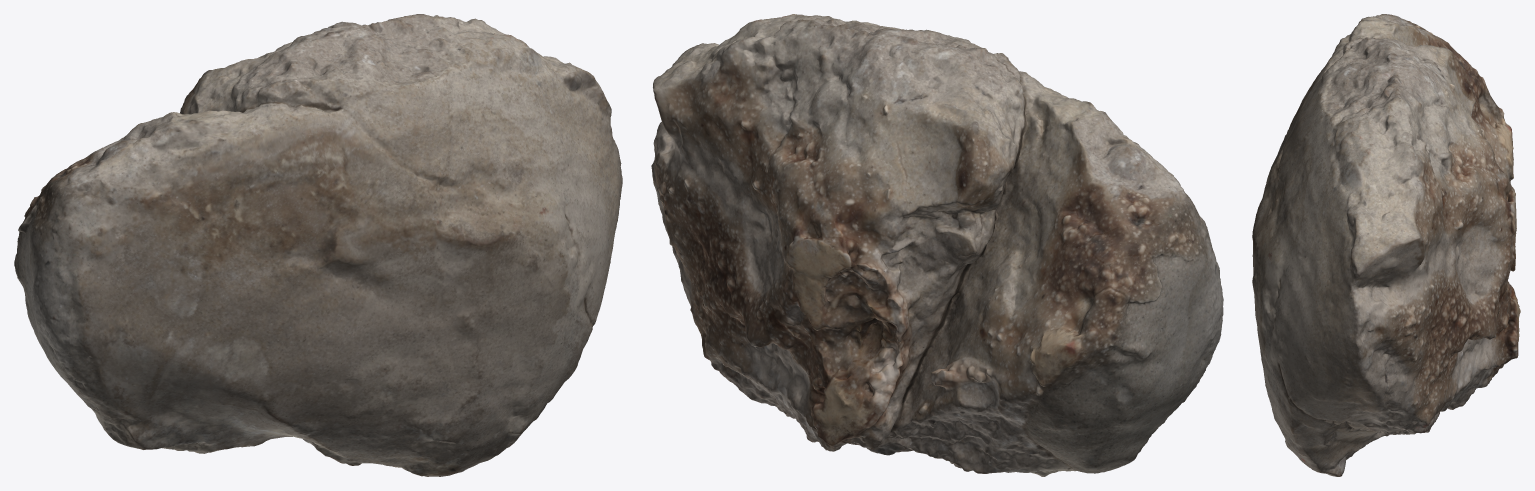
The model's file is EWS0016455.glb.
3 views of the same model, side by side, from view 1: azimuth 30°, elevation 25°; view 2: azimuth 150°, elevation 25°; view 3: azimuth 270°, elevation 25° (orthographic). The views are drawn at different scales.
Parts seen in each view (by area): view 1: input; view 2: input; view 3: input.
Part boxes in pixels (x1=…): input: x1=14, y1=14, x2=622, y2=476; input: x1=651, y1=14, x2=1223, y2=476; input: x1=1252, y1=14, x2=1520, y2=476.
Size of the model in its own units: 0.0373 by 0.0276 by 0.0176.
1 material, 1 textured.
